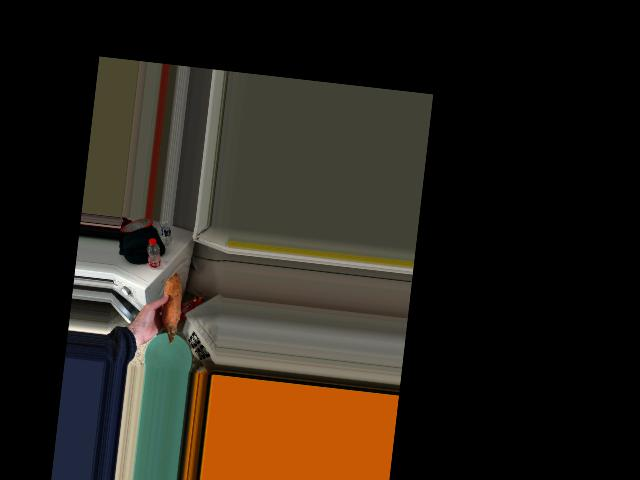sweet_potato: (156, 280, 183, 338)
